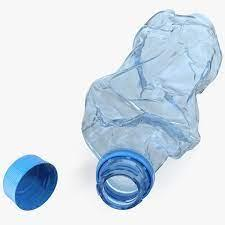plastic: (81, 8, 223, 214)
